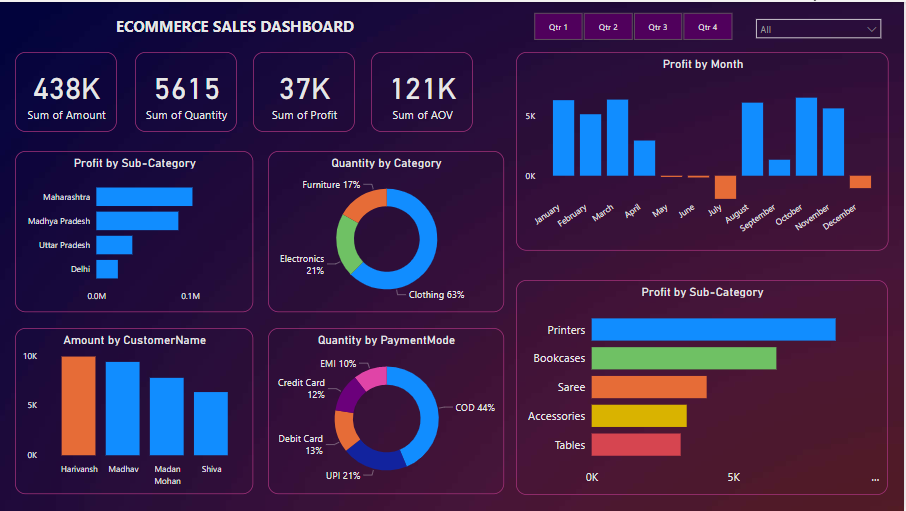

What the dashboard file says about the page in this screenshot:
{"tool":"powerbi","page":{"name":"Page 1","canvas":[1280,720],"ordinal":0},"visuals":[{"type":"columnChart","title":"Profit by Month","fields":{"Category":["Orders.Order Date.Variation.Date Hierarchy.Month"],"Y":["Details.Profit"]},"box":[729.6,70.7,527.4,281],"z":0},{"type":"textbox","box":[93.7,14.8,478.2,55.9],"z":1000},{"type":"barChart","title":"Profit by Sub-Category","fields":{"Category":["Details.Sub-Category"],"Y":["Details.Profit"]},"box":[729.6,392.7,525.8,304],"z":2000},{"type":"donutChart","title":"Quantity by Category","fields":{"Category":["Details.Category"],"Y":["Details.Quantity"]},"box":[379.6,210.3,333.6,228.4],"z":3000},{"type":"donutChart","title":"Quantity by PaymentMode","fields":{"Y":["Details.Quantity"],"Category":["Details.PaymentMode"]},"box":[379.6,461.7,333.6,235],"z":4000},{"type":"card","fields":{"Values":["Details.Amount"]},"box":[21.2,70.7,144.3,113.2],"z":5000},{"type":"card","fields":{"Values":["Details.Quantity"]},"box":[190.6,70.7,144,113.4],"z":6000},{"type":"card","fields":{"Values":["Details.Profit"]},"box":[358.2,70.7,144,113.4],"z":7000},{"type":"card","fields":{"Values":["Details.AOV"]},"box":[524.8,70.7,144,113],"z":8000},{"type":"barChart","title":"Profit by Sub-Category","fields":{"Category":["Orders.State"],"Y":["Details.Amount"]},"box":[21.4,210.3,336.8,228.4],"z":9000},{"type":"columnChart","title":"Amount by CustomerName","fields":{"Category":["Orders.CustomerName"],"Y":["Details.Amount"]},"box":[21.4,461.7,336.8,235],"z":10000},{"type":"slicer","fields":{"Values":["Orders.Order Date.Variation.Date Hierarchy.Quarter"]},"box":[729.9,8.5,329.6,52.3],"z":11000},{"type":"slicer","fields":{"Values":["Orders.State"]},"box":[1059.5,14.1,196.6,52.3],"z":12000}]}

Visuals, with their boxes in screenshot pixels (x1, y1, x2, y2), scaled from the page's 1280x720 canvas onto the 906x511 screenshot:
"Profit by Month" columnChart: region(516, 50, 890, 250)
textbox: region(66, 11, 405, 50)
"Profit by Sub-Category" barChart: region(516, 279, 889, 494)
"Quantity by Category" donutChart: region(269, 149, 505, 311)
"Quantity by PaymentMode" donutChart: region(269, 328, 505, 494)
card - Details.Amount: region(15, 50, 117, 131)
card - Details.Quantity: region(135, 50, 237, 131)
card - Details.Profit: region(254, 50, 355, 131)
card - Details.AOV: region(371, 50, 473, 130)
"Profit by Sub-Category" barChart: region(15, 149, 254, 311)
"Amount by CustomerName" columnChart: region(15, 328, 254, 494)
slicer - Orders.Order Date.Variation.Date Hierarchy.Quarter: region(517, 6, 750, 43)
slicer - Orders.State: region(750, 10, 889, 47)
